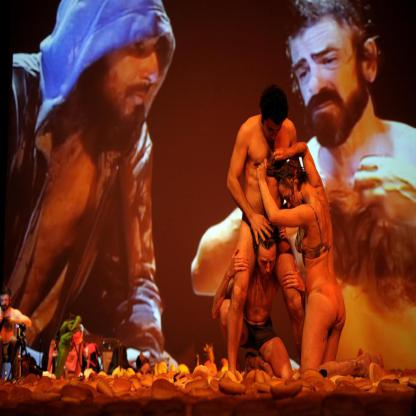face: (292, 22, 365, 149), (106, 27, 161, 125), (258, 248, 277, 280), (280, 178, 298, 211), (265, 118, 282, 145), (1, 296, 10, 310)
